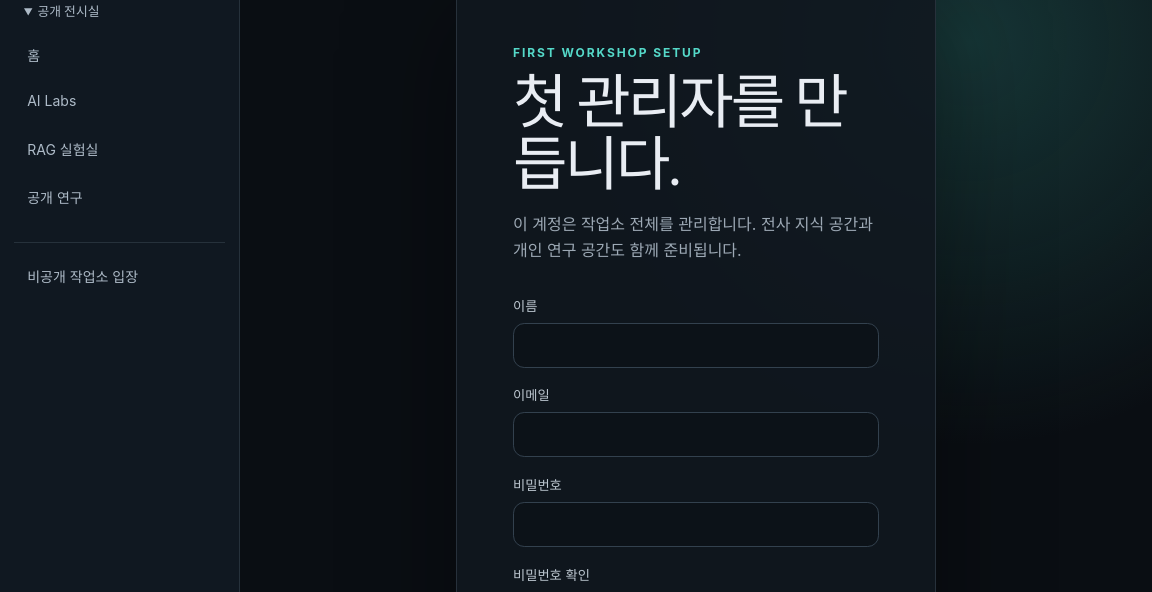
SetupPage › shows a local error when password confirmation does not match
The image size is (1152, 592).
Type "Workshop Owner" into the field labelled "이름" at point(696, 345), box left=513, top=322, right=879, bottom=368
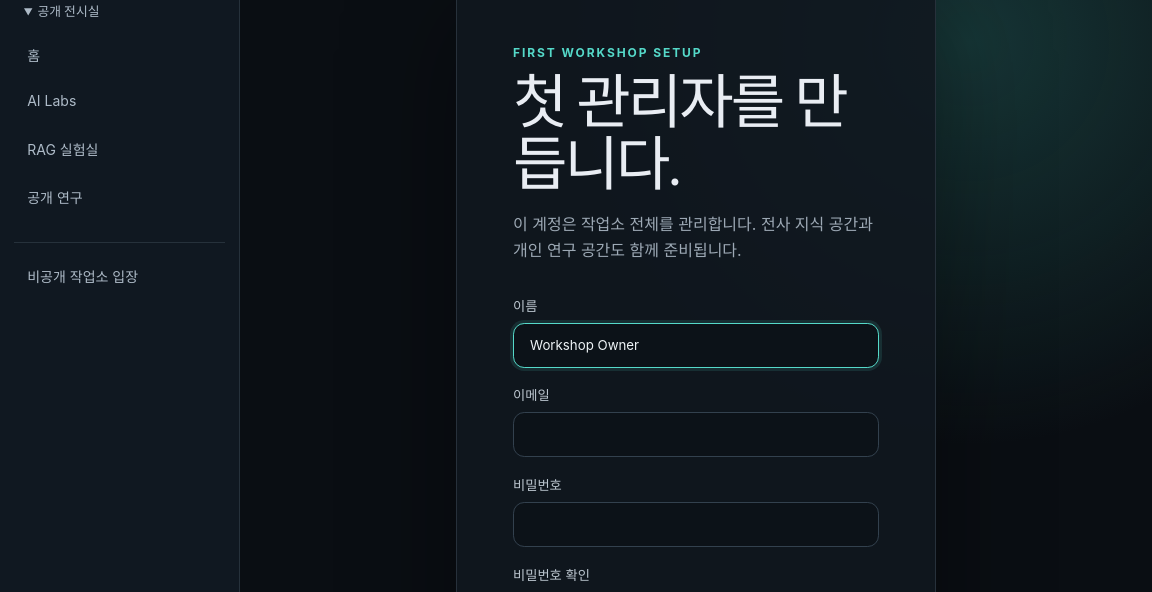
Type "owner@example.test" into the field labelled "이메일" at point(696, 435), box left=513, top=412, right=879, bottom=458
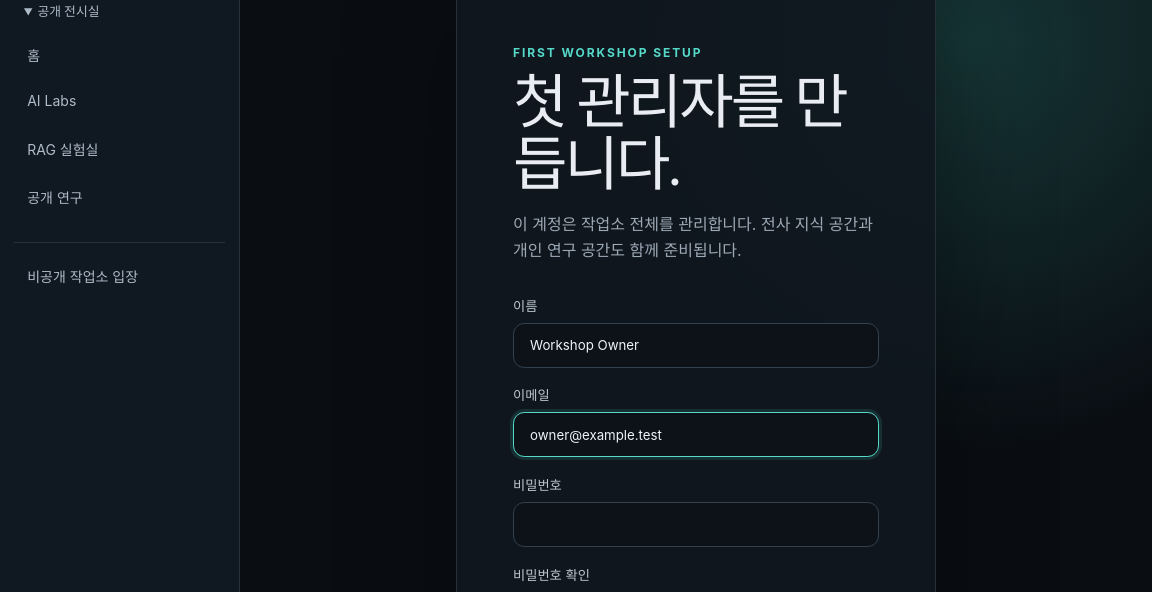
Type "correct-password" into the password field labelled "비밀번호" at point(696, 525), box left=513, top=502, right=879, bottom=547
(page scrolled)
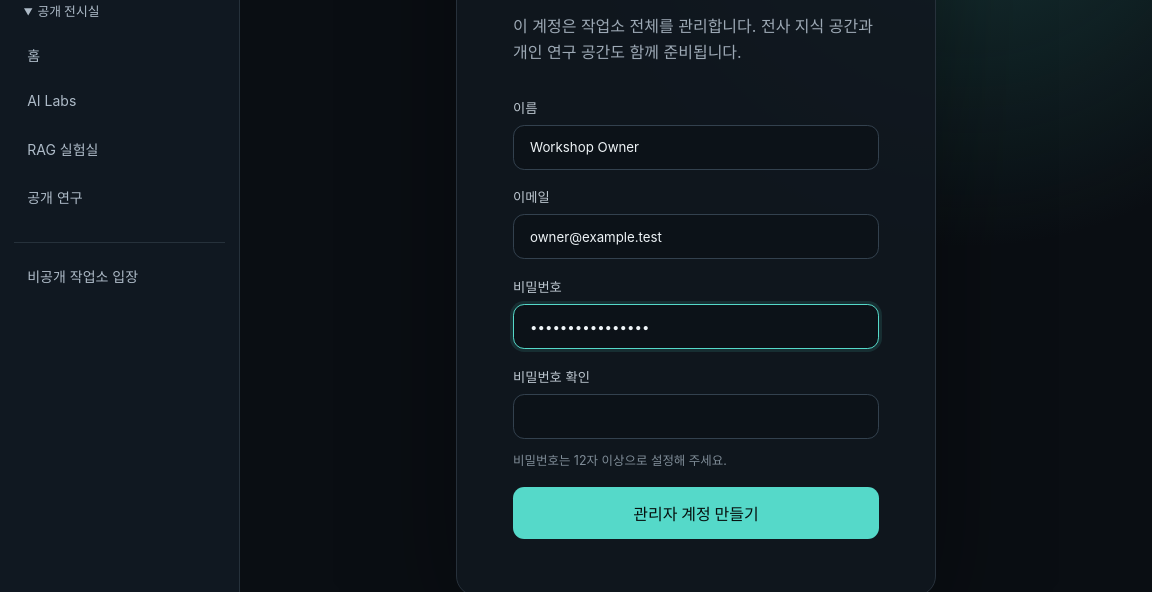
Type "different-password" into the password field labelled "비밀번호 확인" at point(696, 416), box left=513, top=394, right=879, bottom=439
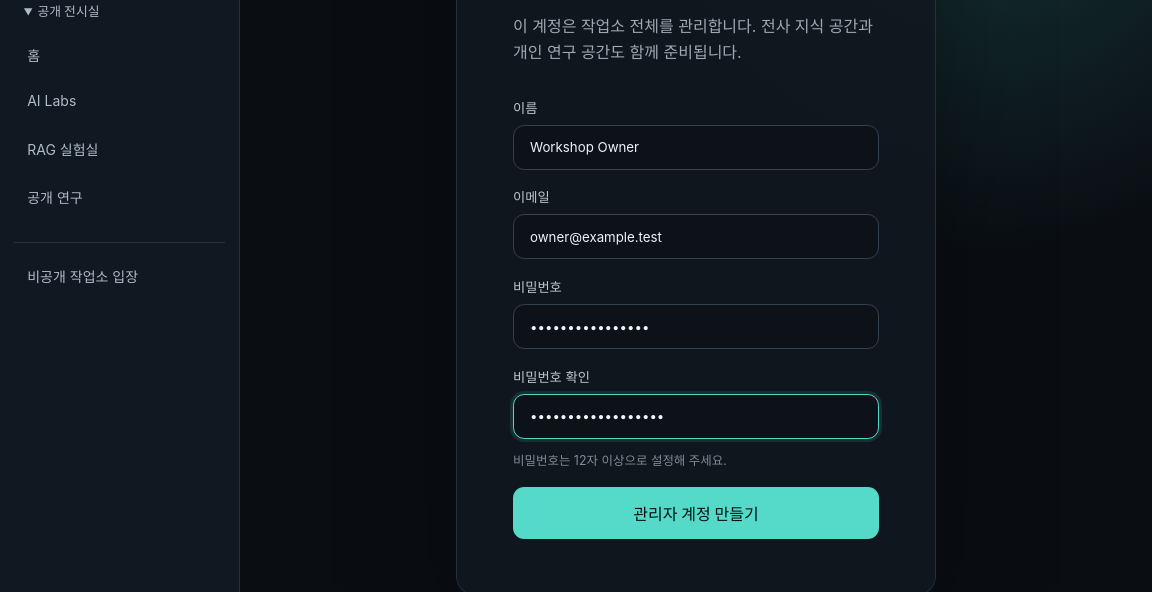
Click the button "관리자 계정 만들기" at point(696, 513), box left=513, top=487, right=879, bottom=539
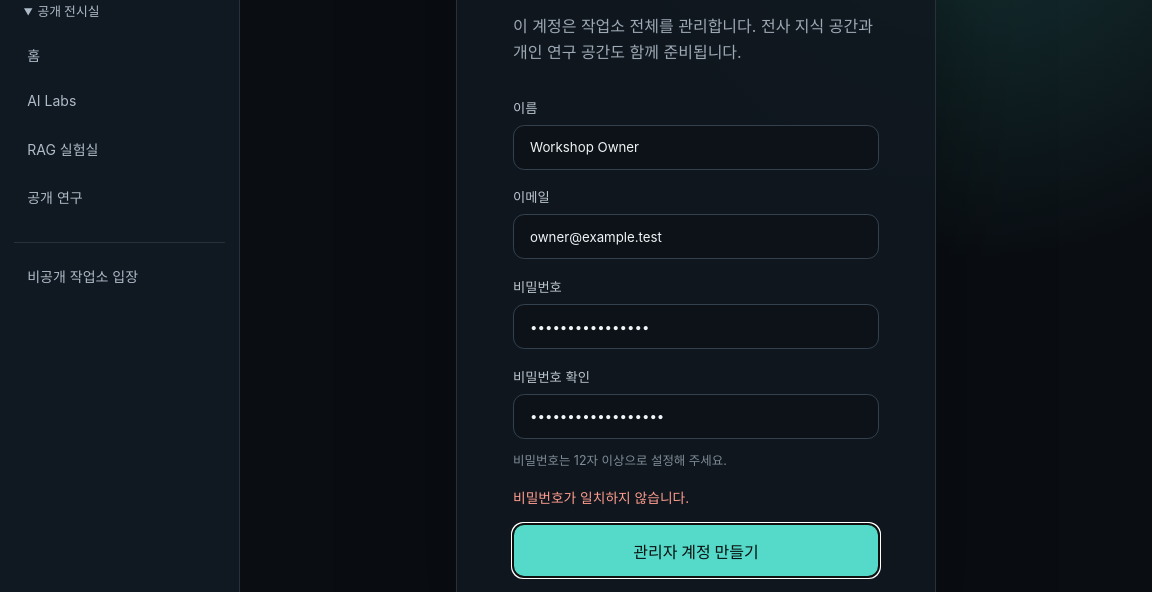
Check: the message reads "비밀번호가 일치하지 않습니다.", box left=513, top=490, right=689, bottom=506
